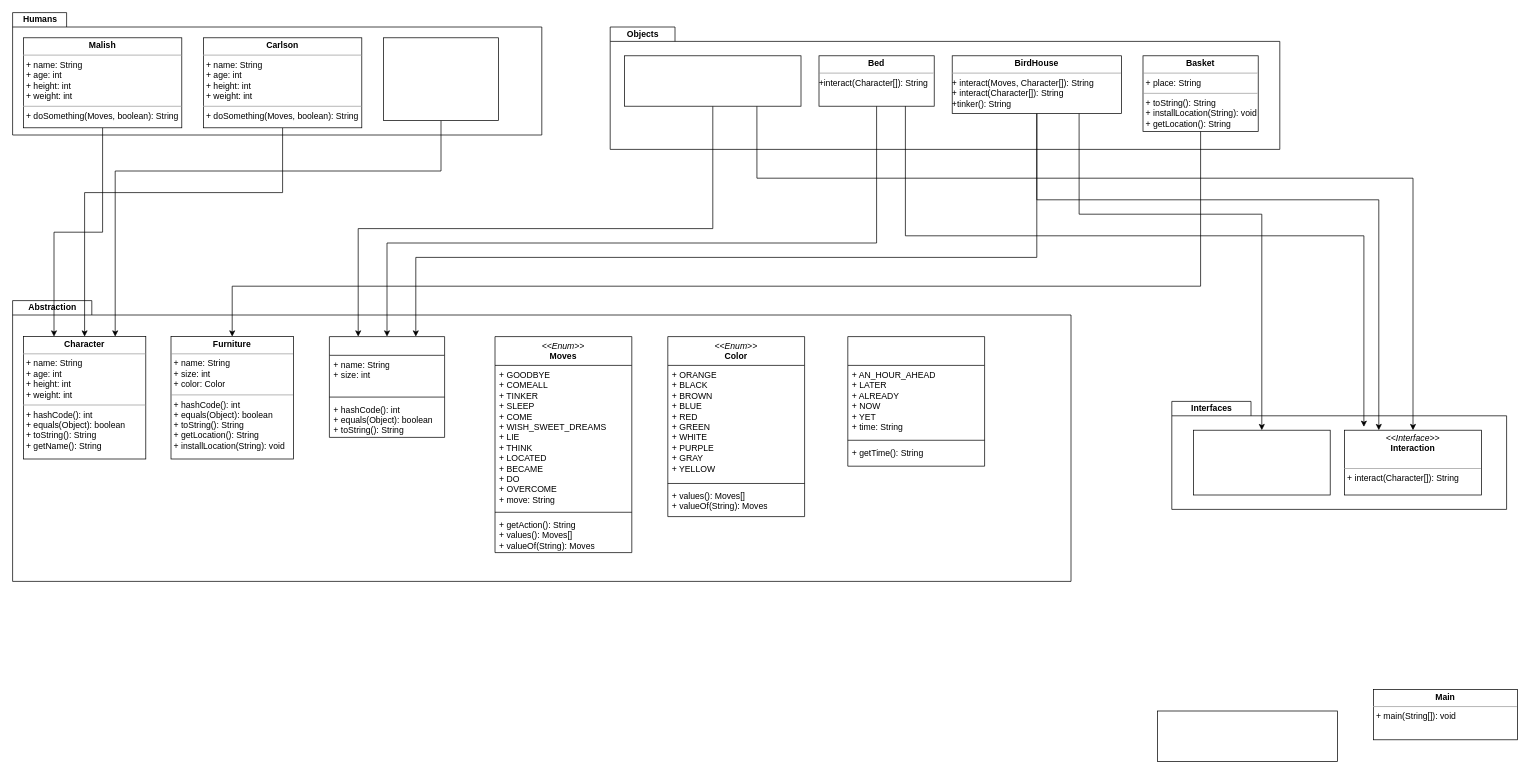
The diagram is 1530 pixels wide and 774 high, and some of its shapes have lost their labels. Here are the shapes that lost their labels. From the top down, the box of each, then its label:
(383, 37, 499, 121): Relative + name: String + age: int + height: int + weight: int
(624, 55, 801, 106): Dream +interact(TimeOperands, CHaracter[]): String +interact(Character): String
(329, 336, 445, 437): PhysicalObject
(847, 336, 985, 466): <<Enum>> TimeOperands
(1193, 429, 1330, 495): <<Interface>> Constructable + tinker(): String
(1157, 710, 1337, 761): GroupComing + comeTogether(Character[]): String
